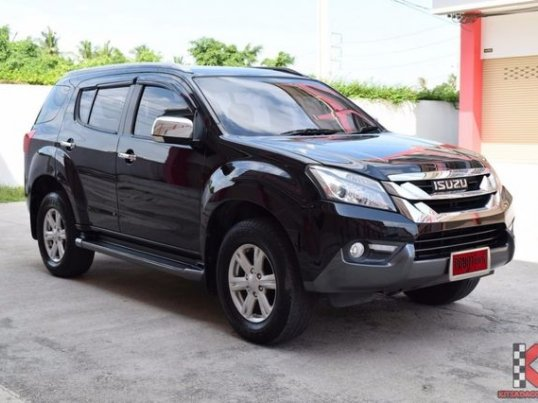pickup: (19, 58, 518, 347)
